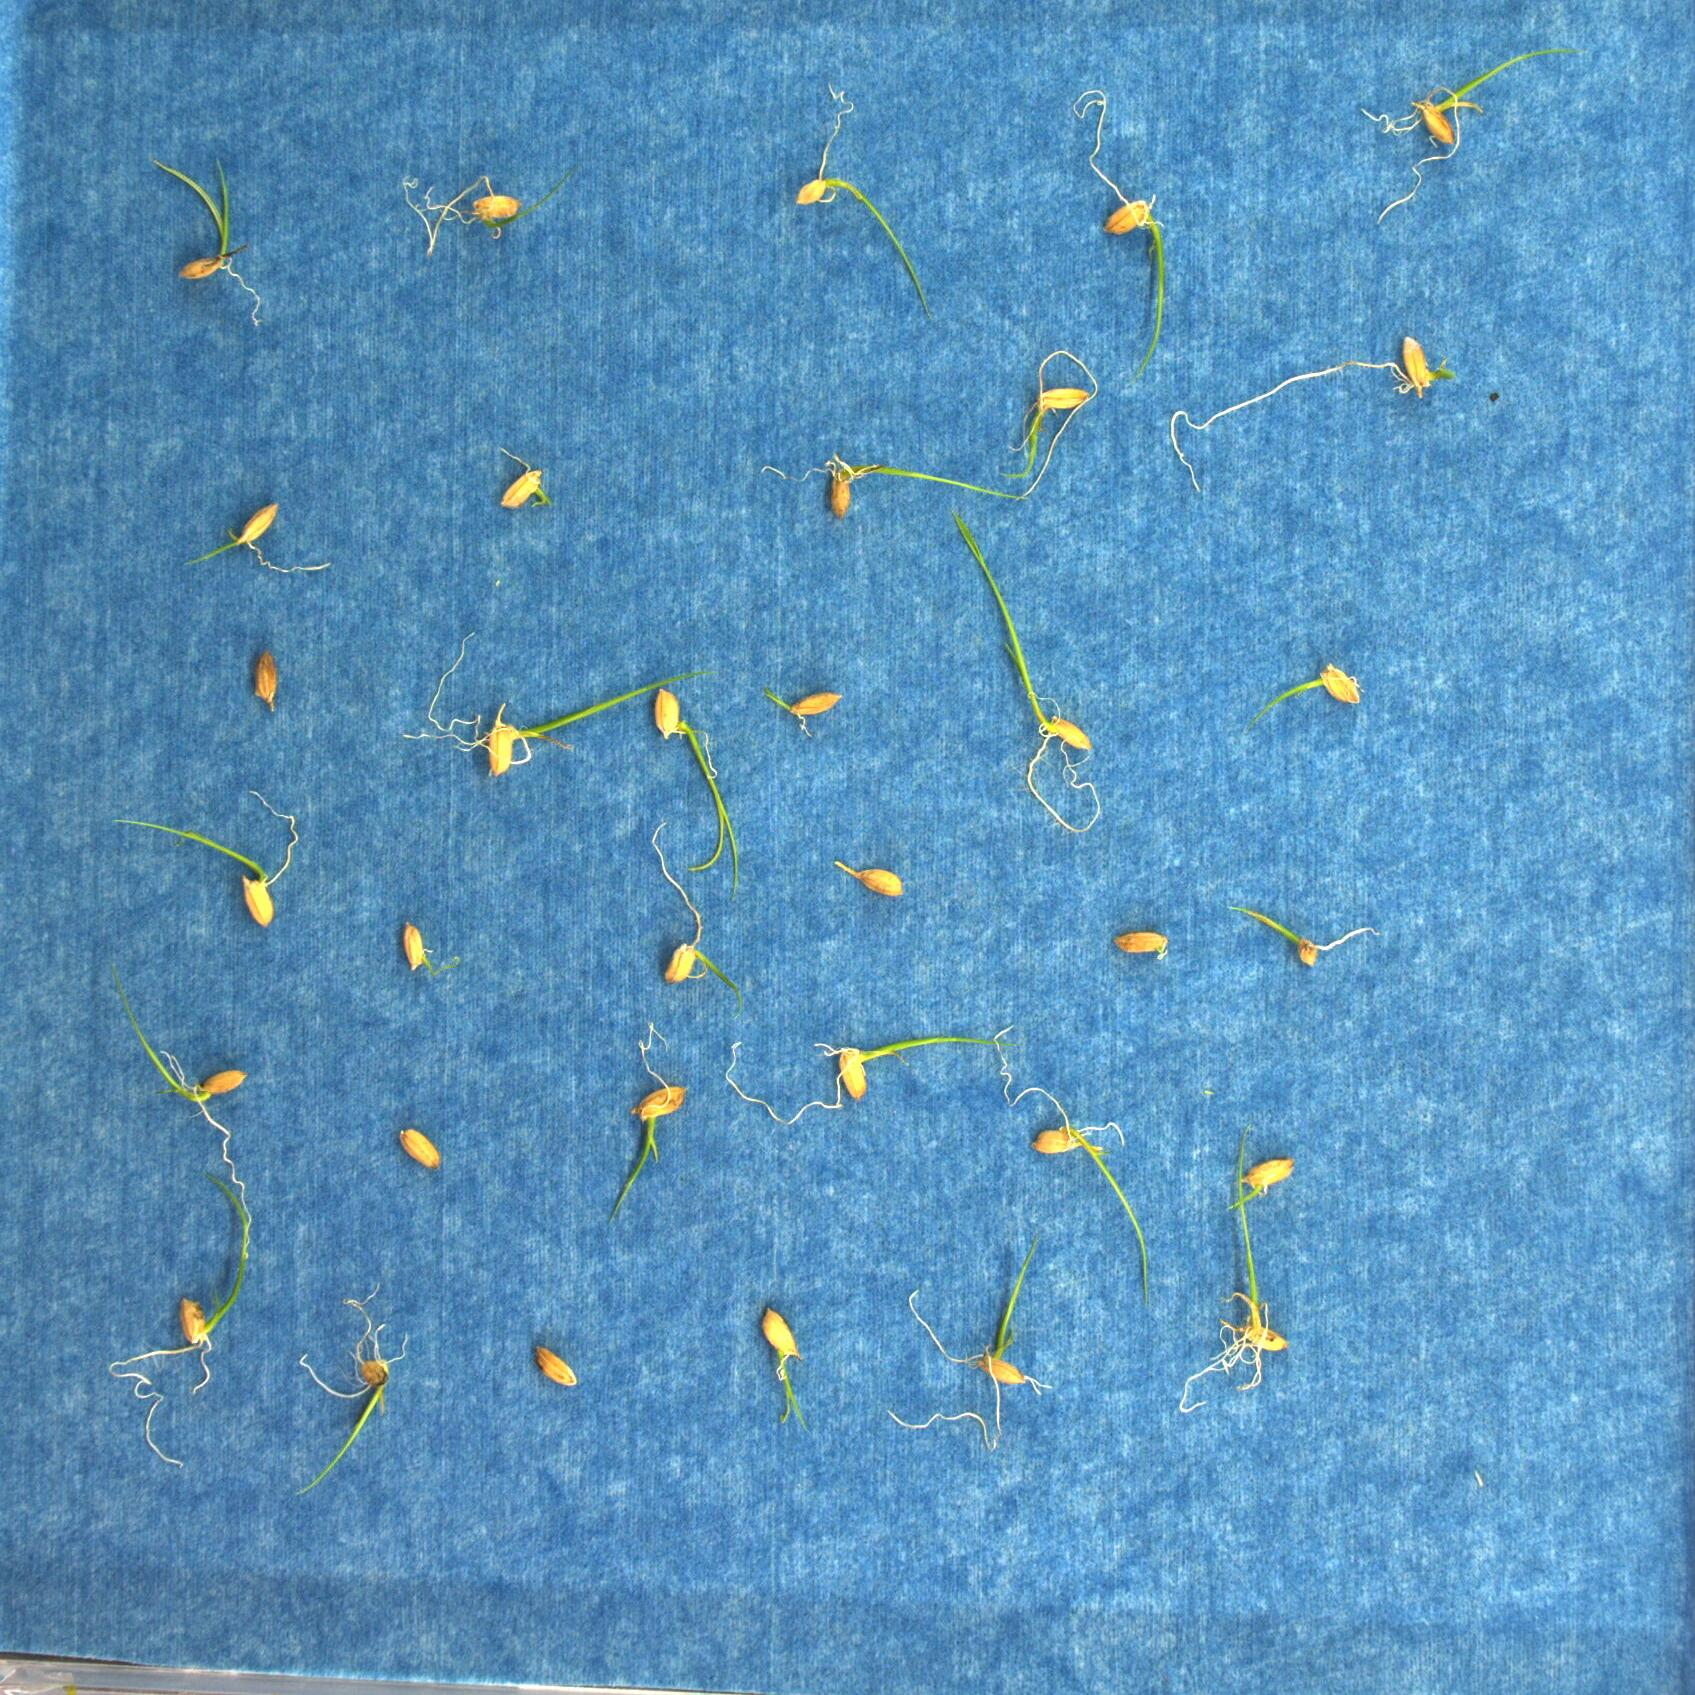not sprout: (834, 860, 906, 900), (399, 1125, 442, 1172), (400, 920, 436, 973), (536, 1344, 577, 1388), (251, 650, 279, 711), (1113, 931, 1169, 961)
sprout: (951, 509, 1104, 832), (1169, 335, 1458, 497), (404, 632, 719, 778), (993, 1024, 1149, 1305), (112, 962, 251, 1262), (107, 1173, 248, 1467), (1360, 47, 1582, 228), (885, 1234, 1054, 1451), (795, 81, 931, 320), (1180, 1122, 1291, 1412), (1071, 88, 1166, 383), (112, 789, 301, 930), (725, 1035, 1018, 1125), (293, 1281, 411, 1498), (759, 452, 1032, 522), (152, 158, 261, 329), (652, 820, 744, 1018), (655, 688, 740, 896), (608, 1018, 689, 1225), (404, 165, 581, 256), (1000, 349, 1097, 501), (185, 500, 334, 573), (1228, 903, 1378, 967), (1250, 663, 1363, 733), (761, 1305, 815, 1436), (1228, 1155, 1295, 1212), (498, 445, 553, 512), (767, 691, 841, 736)
